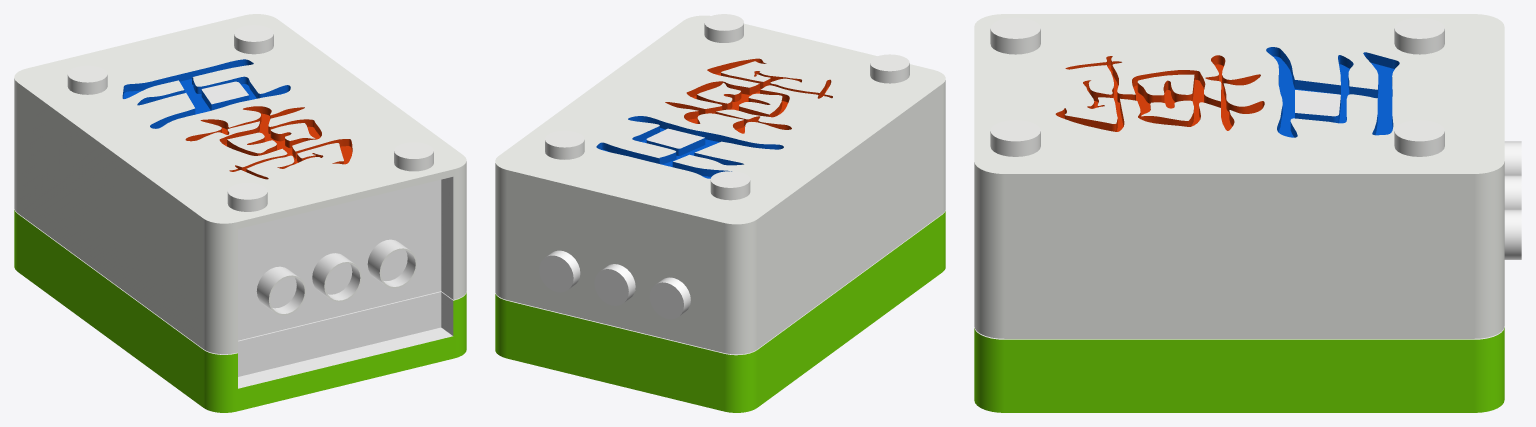
The model's file is tile-five-wan.glb.
The picture shows the model from 3 angles, left to right: view 1: azimuth 30°, elevation 25°; view 2: azimuth 150°, elevation 25°; view 3: azimuth 270°, elevation 25°; orthographic projection. The views are drawn at different scales.
Size of the model in its own units: 0.0375 by 0.0278 by 0.0542.
